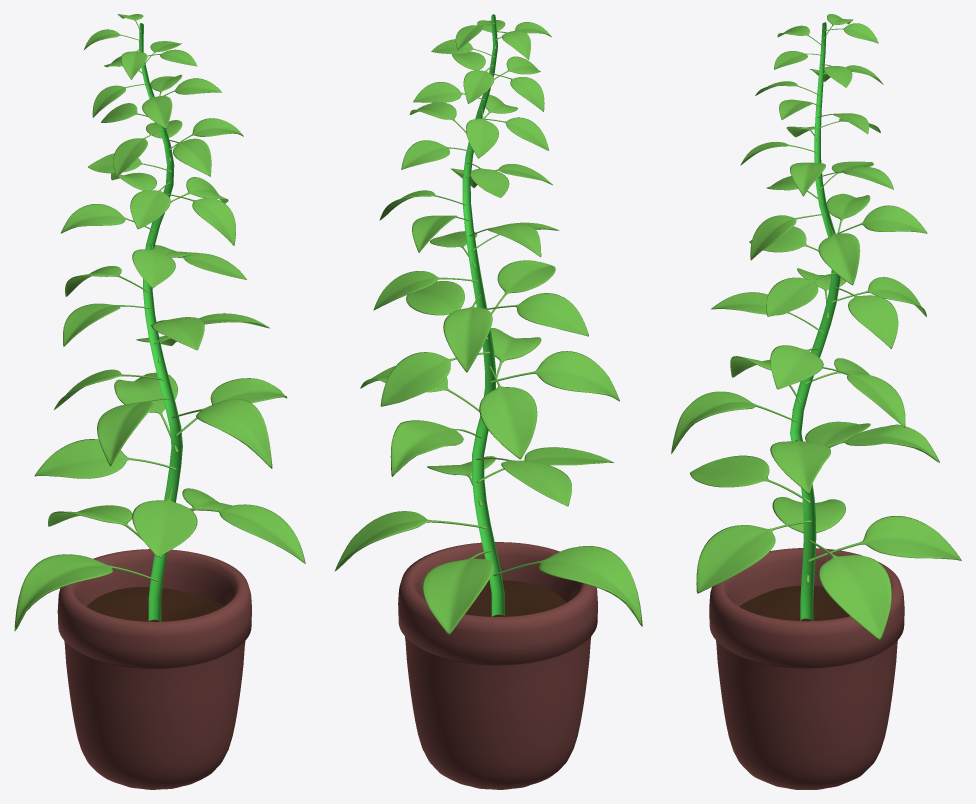
The model's file is pottedstem.gltf.
3 renders of one model, left to right at view 1: azimuth 30°, elevation 25°; view 2: azimuth 150°, elevation 25°; view 3: azimuth 270°, elevation 25°, orthographic. The views are drawn at different scales.
Visible parts, largest first — view 1: Plant1_Circle.015, PotSmall2_Vert.005, Plant1Stem_Circle.014, PotSmall2Dirt_Circle.004; view 2: Plant1_Circle.015, PotSmall2_Vert.005, Plant1Stem_Circle.014, PotSmall2Dirt_Circle.004; view 3: Plant1_Circle.015, PotSmall2_Vert.005, Plant1Stem_Circle.014, PotSmall2Dirt_Circle.004.
Part boxes in pixels (x1,y1,x2,y2): Plant1_Circle.015: [14, 14, 305, 631]; PotSmall2_Vert.005: [57, 549, 251, 789]; Plant1Stem_Circle.014: [139, 23, 182, 621]; PotSmall2Dirt_Circle.004: [86, 587, 224, 621]; Plant1_Circle.015: [334, 20, 642, 634]; PotSmall2_Vert.005: [398, 542, 597, 789]; Plant1Stem_Circle.014: [462, 14, 504, 616]; PotSmall2Dirt_Circle.004: [465, 580, 566, 616]; Plant1_Circle.015: [671, 14, 961, 640]; PotSmall2_Vert.005: [709, 548, 904, 789]; Plant1Stem_Circle.014: [790, 22, 840, 620]; PotSmall2Dirt_Circle.004: [739, 585, 849, 621].
Size of the model in its own units: 0.00518 by 0.0135 by 0.00475.
